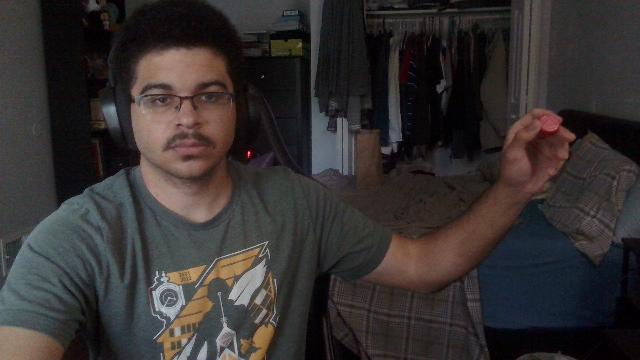cap: (537, 114, 559, 134)
